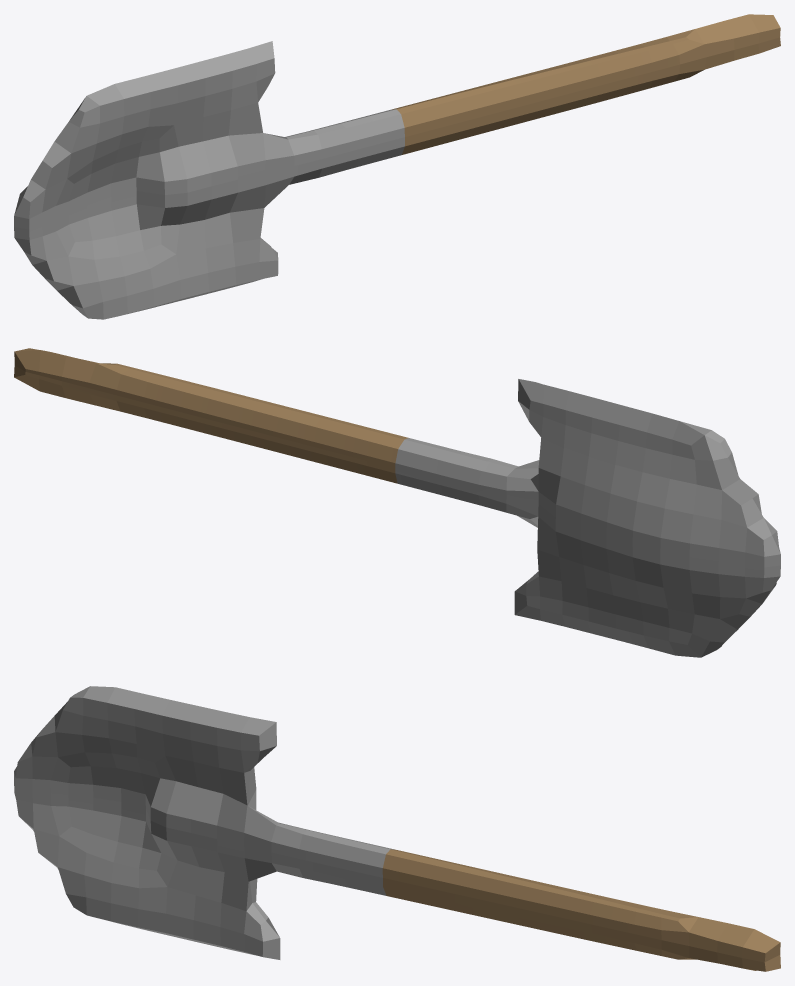
The model's file is shovel 1.fbx.
The picture shows the model from 3 angles, top to bottom: view 1: azimuth 30°, elevation 25°; view 2: azimuth 150°, elevation 25°; view 3: azimuth 330°, elevation 25°; orthographic projection.
Parts seen in each view (by area): view 1: Shovel; view 2: Shovel; view 3: Shovel.
Boxes of the visible parts, x1,y1,x2,y2 form: Shovel: (14,14,780,319); Shovel: (14,348,780,657); Shovel: (14,686,780,971).
Size of the model in its own units: 13183 by 3930 by 905.
